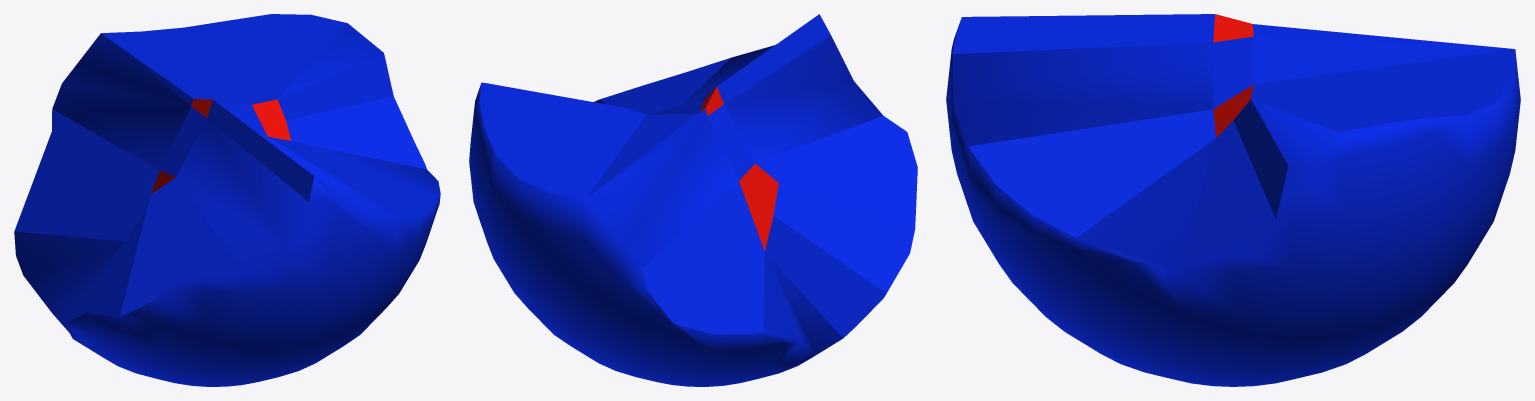
File: Orbe_Square_F1.fbx
The picture shows the model from 3 angles, left to right: view 1: azimuth 30°, elevation 25°; view 2: azimuth 150°, elevation 25°; view 3: azimuth 270°, elevation 25°; orthographic projection. The views are drawn at different scales.
Parts seen in each view (by area): view 1: Orbe_Square_F1; view 2: Orbe_Square_F1; view 3: Orbe_Square_F1.
Boxes of the visible parts, x1,y1,x2,y2 form: Orbe_Square_F1: [14, 14, 440, 386]; Orbe_Square_F1: [469, 14, 917, 386]; Orbe_Square_F1: [946, 14, 1520, 386].
Bounding box in the file's own units: 183 × 131 × 200.
